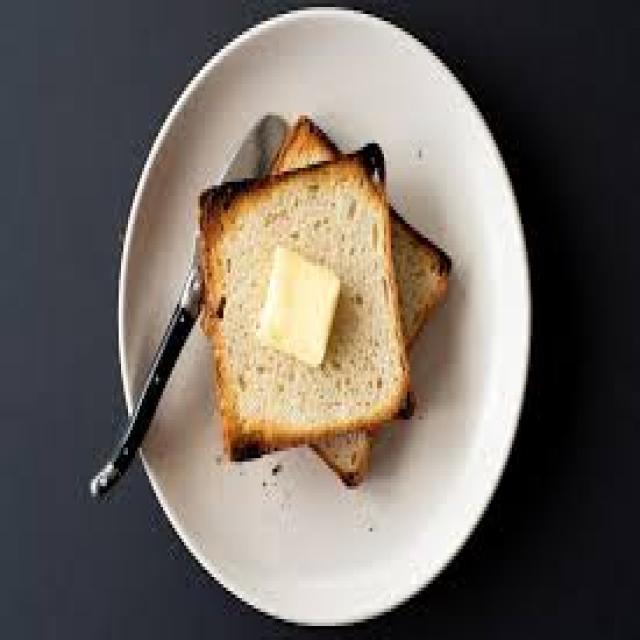Bread: (201, 156, 409, 457)
